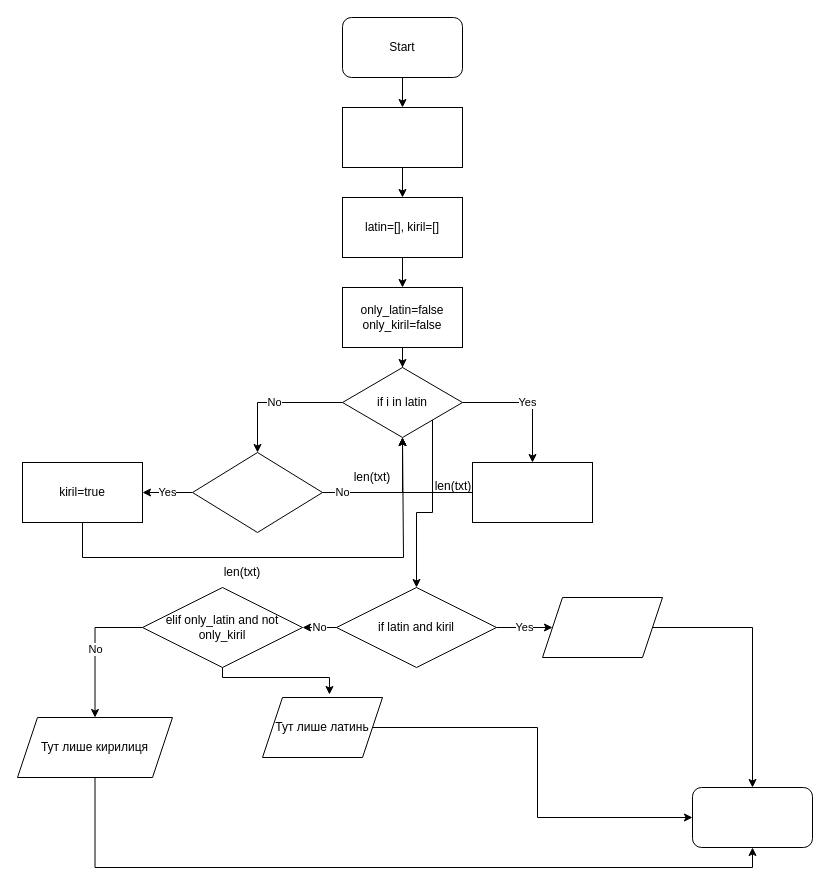
The diagram is 830 pixels wide and 893 high, and some of its shapes have lost their labels. Here are the shapes that lost their labels. From the top down, the box of each, then its label:
(342, 106, 462, 168): txt
(192, 452, 322, 532): if i in kiril
(472, 462, 592, 522): latin=true
(542, 596, 662, 658): Тут і кирилиця і латинь
(692, 786, 812, 848): Кінець
